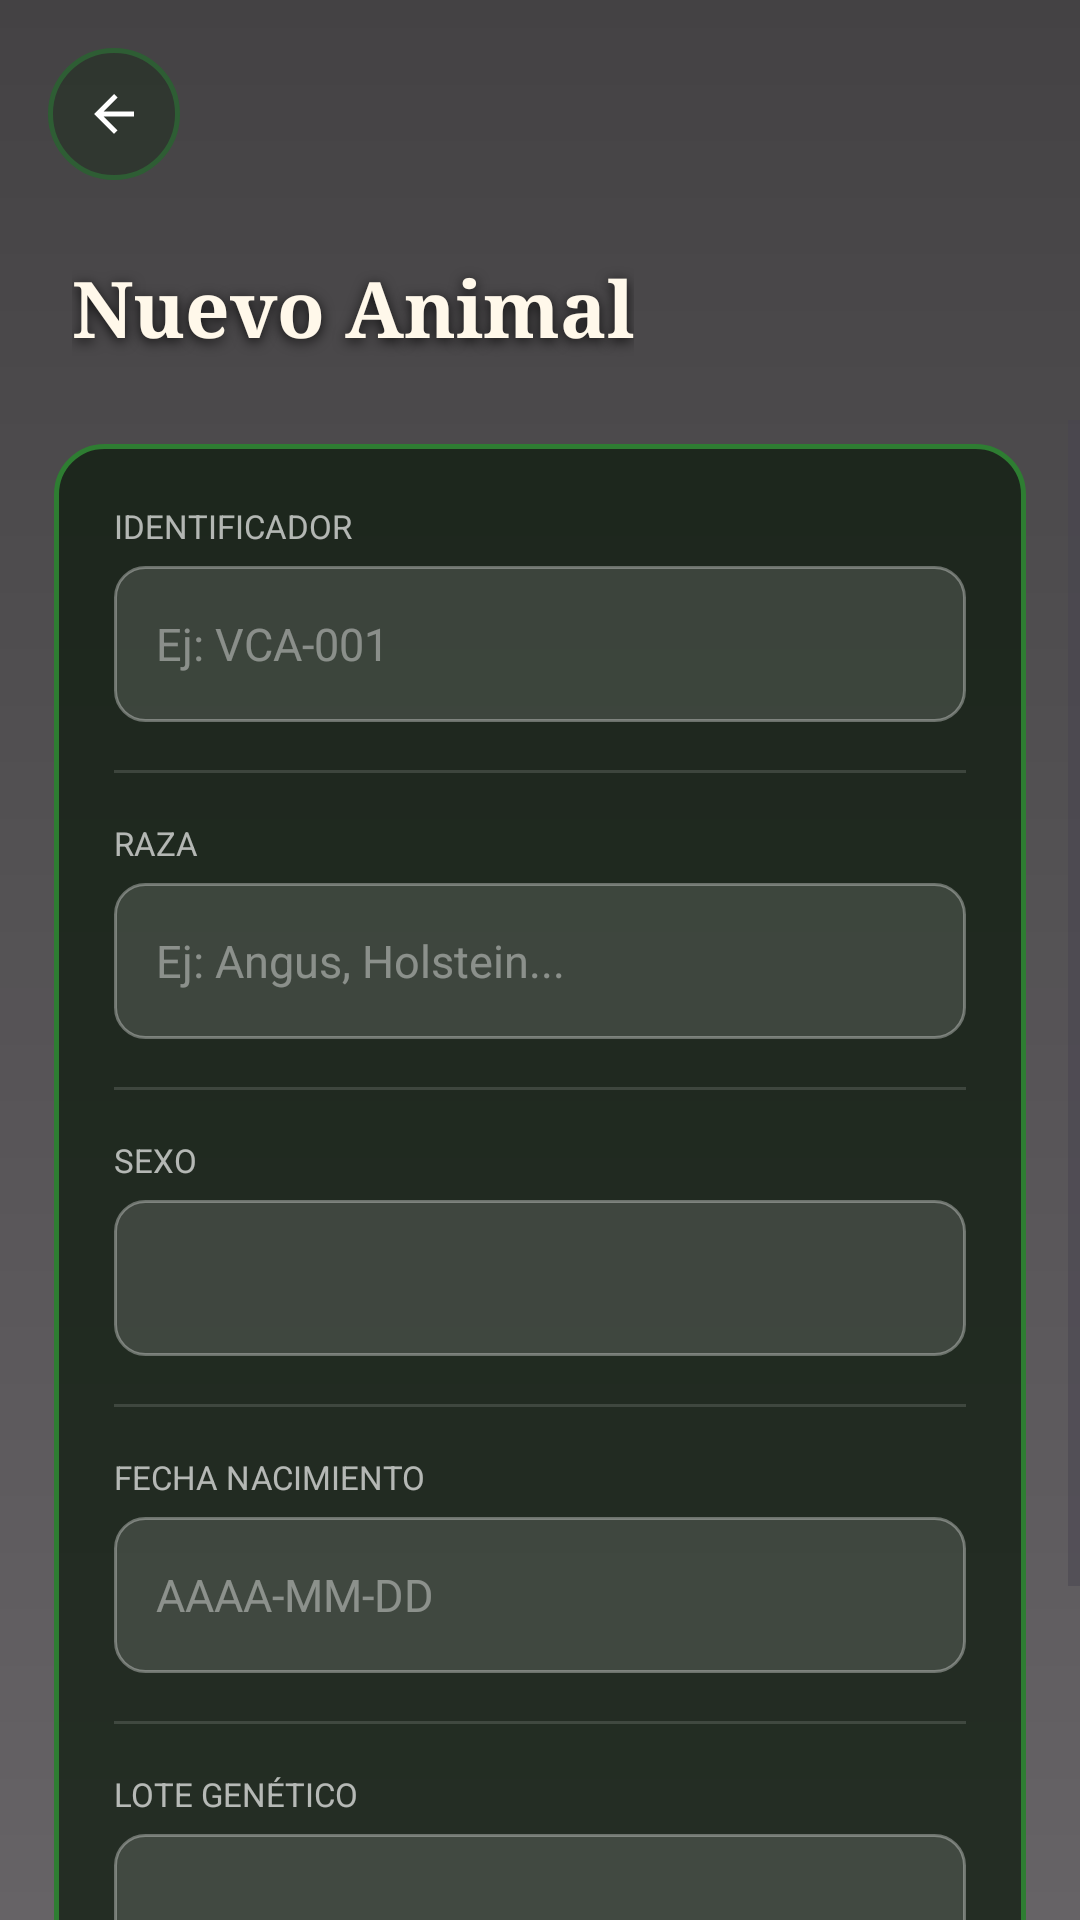

Icons on this 1080 × 1920 Android screen, each with the point to tap as (x=x, y=y):
arrow back: (x=114, y=114)
